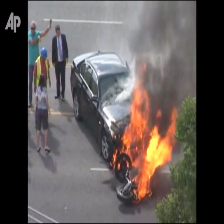fire_h: (119, 59, 179, 199)
fire_l: (117, 157, 129, 170), (112, 149, 116, 169)
